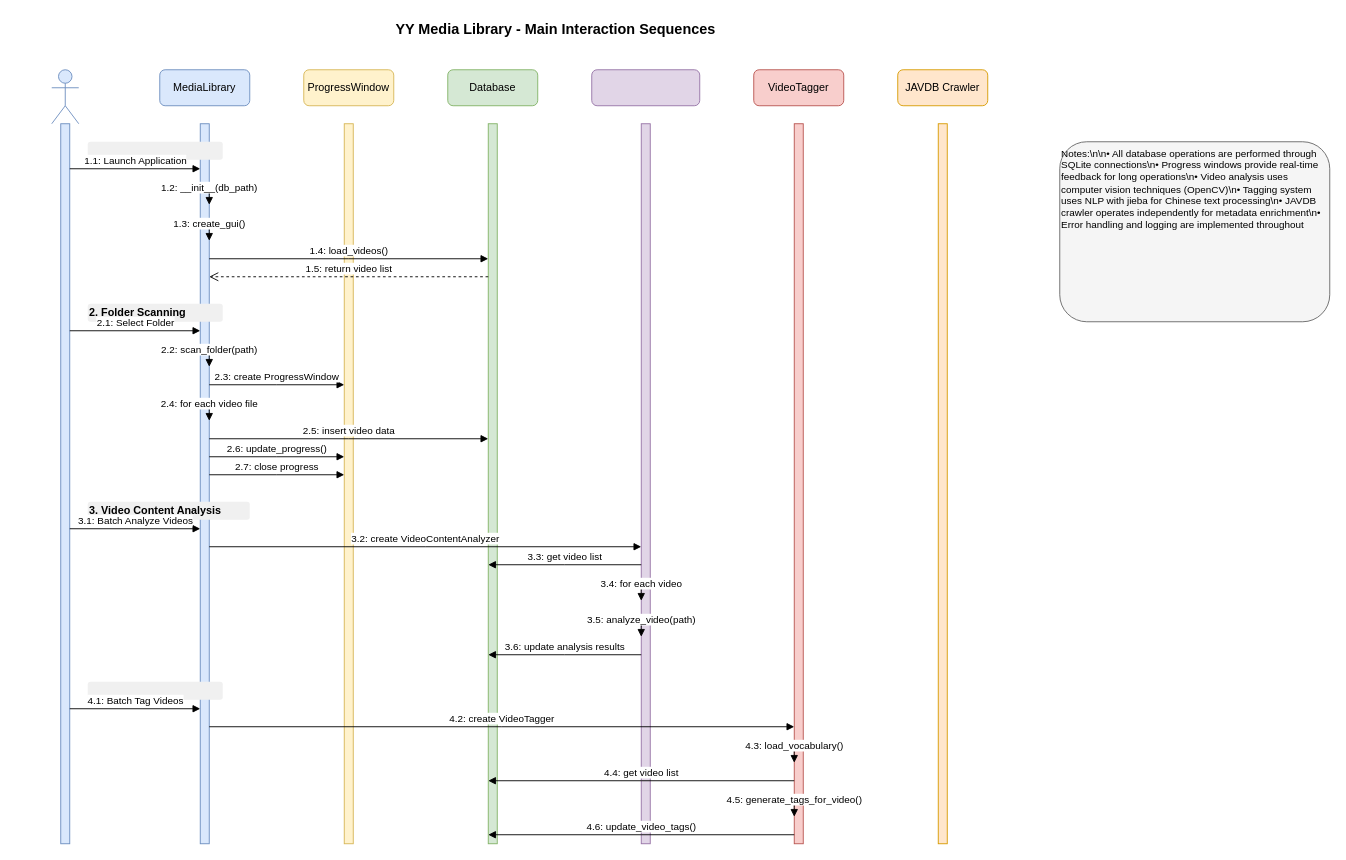
The diagram is 1346 pixels wide and 860 high, and some of its shapes have lost their labels. Here are the shapes that lost their labels. From the top down, the box of each, then its label:
(51, 69, 79, 124): User
(591, 69, 700, 106): VideoContentAnalyzer
(87, 141, 222, 159): 1. Application Startup
(87, 681, 222, 699): 4. Automatic Tagging
